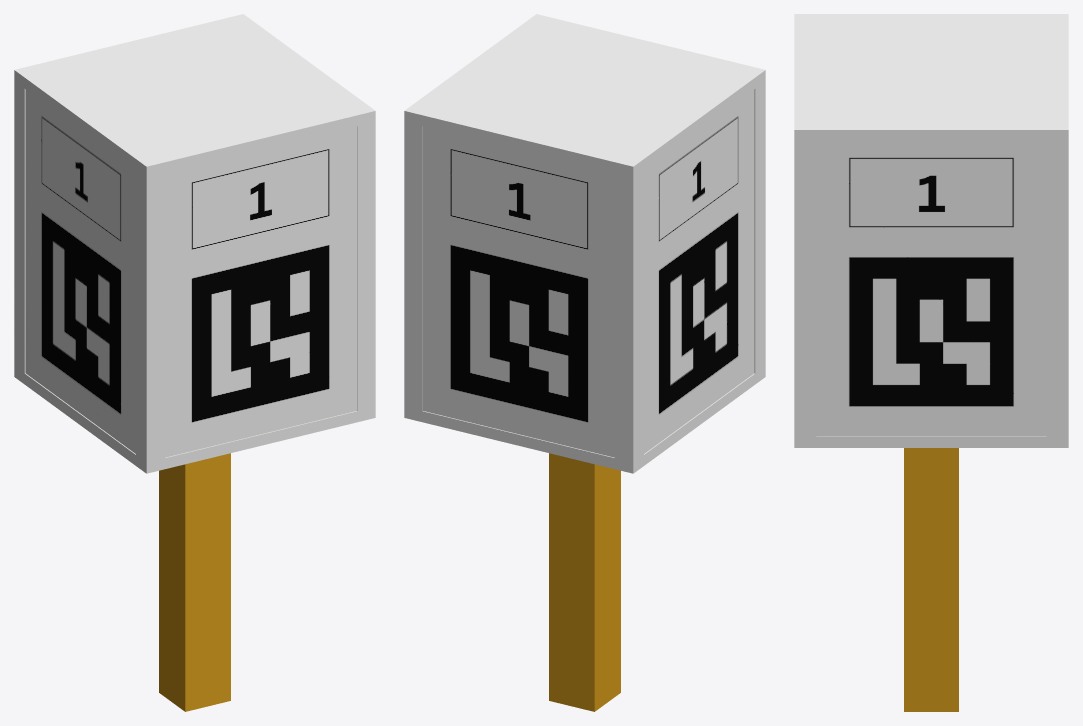
File: pole51.dae
3 views of the same model, side by side, from view 1: azimuth 30°, elevation 25°; view 2: azimuth 150°, elevation 25°; view 3: azimuth 270°, elevation 25° (orthographic). The views are drawn at different scales.
Parts seen in each view (by area): view 1: marsPole1; view 2: marsPole1; view 3: marsPole1.
Boxes of the visible parts, bbox=[...] form: marsPole1: bbox=[14, 14, 375, 711]; marsPole1: bbox=[404, 14, 765, 711]; marsPole1: bbox=[794, 14, 1068, 711].
Size of the model in its own units: 0.25 by 0.25 by 0.632.
Materials: 2 (1 with a texture image).
